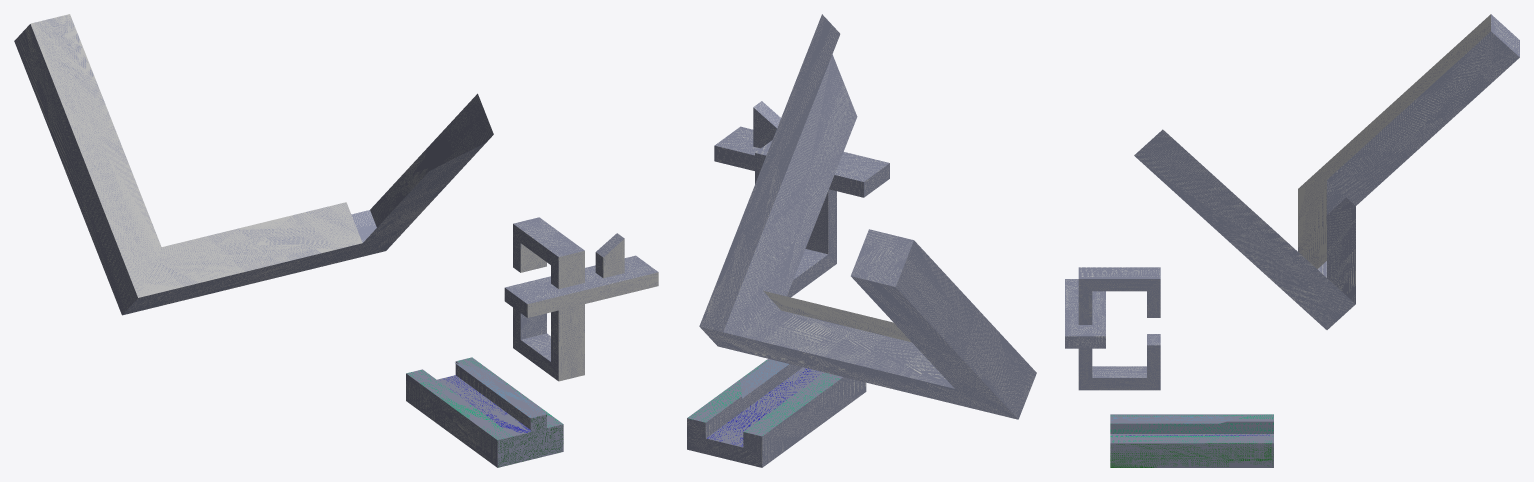
File: impossible_sculpture.obj
3 renders of one model, left to right at view 1: azimuth 30°, elevation 25°; view 2: azimuth 150°, elevation 25°; view 3: azimuth 270°, elevation 25°, orthographic. The views are drawn at different scales.
Visible parts, largest first — view 1: instance_4.001_ID145, instance_4_ID139, instance_3.001_ID94, instance_1.004_ID34, instance_1.005_ID40, instance_1.002_ID20, instance_3.005_ID122, instance_1.003_ID28, instance_1.008_ID60, instance_3.003_ID108, instance_3.004_ID114, instance_3_ID86 (+1 smaller); view 2: instance_4_ID139, instance_3.001_ID94, instance_1.004_ID34, instance_1.005_ID40, instance_3.004_ID114, instance_4.001_ID145, instance_3.003_ID108, instance_3.002_ID100, instance_1.009_ID66, instance_3_ID86; view 3: instance_4_ID139, instance_4.001_ID145, instance_3.006_ID130, instance_3.003_ID108, instance_1.004_ID34, instance_1.007_ID54, instance_1.006_ID46, instance_3.002_ID100, instance_3_ID86, instance_1.002_ID20, instance_1.005_ID40.
Part boxes in pixels (box(x1,y1,x2,y2)): instance_4.001_ID145: box(30, 14, 362, 297); instance_4_ID139: box(14, 24, 493, 315); instance_3.001_ID94: box(406, 361, 530, 467); instance_1.004_ID34: box(504, 255, 658, 317); instance_1.005_ID40: box(513, 307, 558, 380); instance_1.002_ID20: box(513, 217, 584, 288); instance_3.005_ID122: box(497, 414, 563, 467); instance_1.003_ID28: box(558, 304, 584, 381); instance_1.008_ID60: box(527, 272, 658, 317); instance_3.003_ID108: box(406, 369, 513, 440); instance_3.004_ID114: box(437, 375, 530, 436); instance_3_ID86: box(455, 363, 546, 418); instance_4_ID139: box(699, 14, 1036, 419); instance_3.001_ID94: box(687, 364, 866, 467); instance_1.004_ID34: box(714, 126, 889, 197); instance_1.005_ID40: box(787, 189, 836, 297); instance_3.004_ID114: box(706, 367, 824, 447); instance_4.001_ID145: box(763, 290, 911, 342); instance_3.003_ID108: box(744, 372, 842, 436); instance_3.002_ID100: box(687, 358, 770, 422); instance_1.009_ID66: box(753, 101, 780, 148); instance_3_ID86: box(740, 359, 788, 398); instance_4_ID139: box(1134, 14, 1519, 329); instance_4.001_ID145: box(1298, 14, 1490, 269); instance_3.006_ID130: box(1110, 443, 1273, 467); instance_3.003_ID108: box(1110, 414, 1273, 433); instance_1.004_ID34: box(1065, 279, 1105, 348); instance_1.007_ID54: box(1078, 345, 1160, 390); instance_1.006_ID46: box(1078, 279, 1160, 317); instance_3.002_ID100: box(1110, 436, 1273, 443); instance_3_ID86: box(1110, 416, 1246, 423); instance_1.002_ID20: box(1078, 267, 1160, 278); instance_1.005_ID40: box(1092, 334, 1160, 377).
Bounding box in the file's own units: 9.01 × 7.74 × 10.16.
